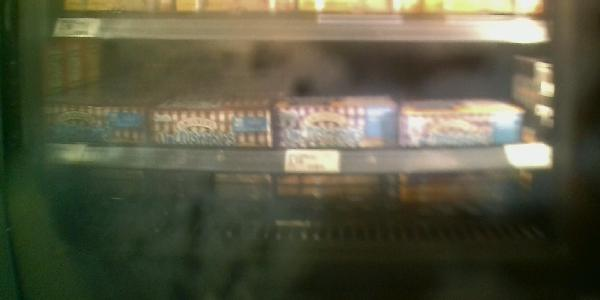icecream: (39, 96, 149, 149), (277, 105, 397, 153), (150, 105, 278, 149), (401, 106, 522, 148)
